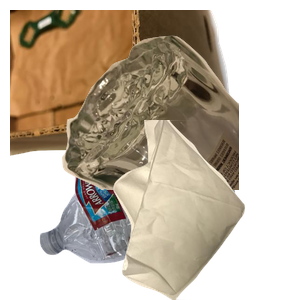cardboard: (10, 10, 237, 158)
glass: (60, 33, 300, 213)
plastic: (37, 144, 265, 300)
trash: (111, 120, 300, 300)
